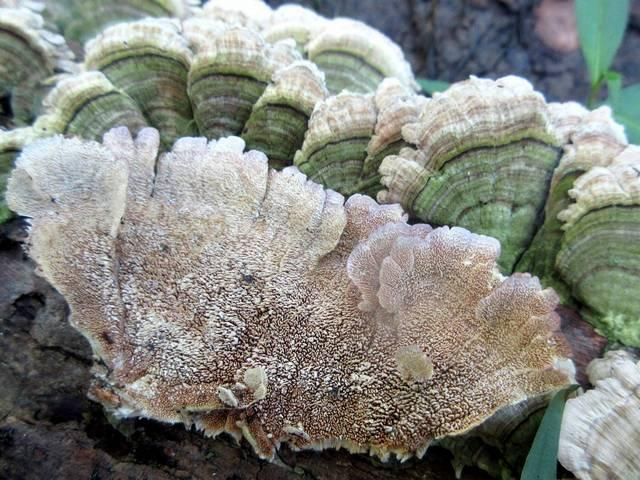poisonous_mushroom: (6, 0, 640, 454), (5, 125, 576, 465)
